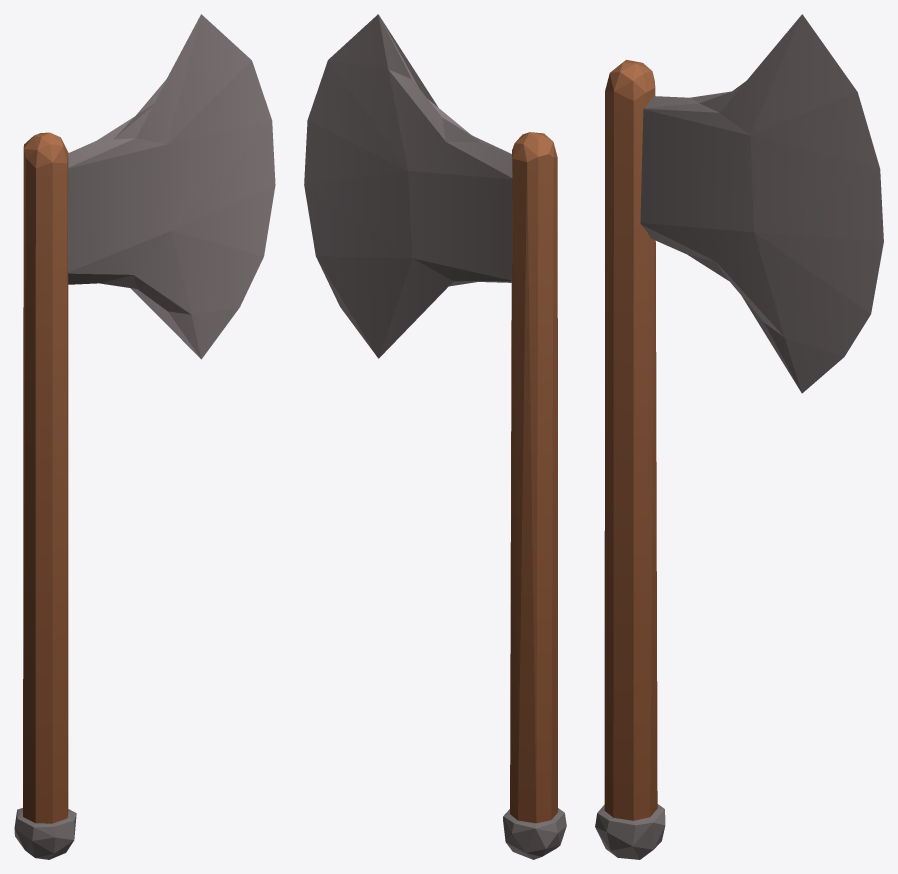
The model's file is SM_Axe_01.fbx.
3 views of the same model, side by side, from view 1: azimuth 30°, elevation 25°; view 2: azimuth 150°, elevation 25°; view 3: azimuth 330°, elevation 25° (orthographic). The views are drawn at different scales.
Visible parts, largest first — view 1: SM_Axe_01; view 2: SM_Axe_01; view 3: SM_Axe_01.
Part boxes in pixels (left/top/right/bottom): SM_Axe_01: left=14, top=14, right=275, bottom=859; SM_Axe_01: left=304, top=14, right=566, bottom=859; SM_Axe_01: left=595, top=14, right=883, bottom=859.
Bounding box in the file's own units: 29.64 × 88.37 × 6.36.
